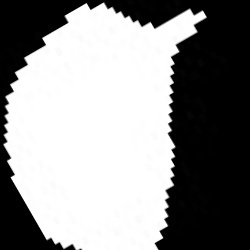spot: (2, 4, 208, 250)
